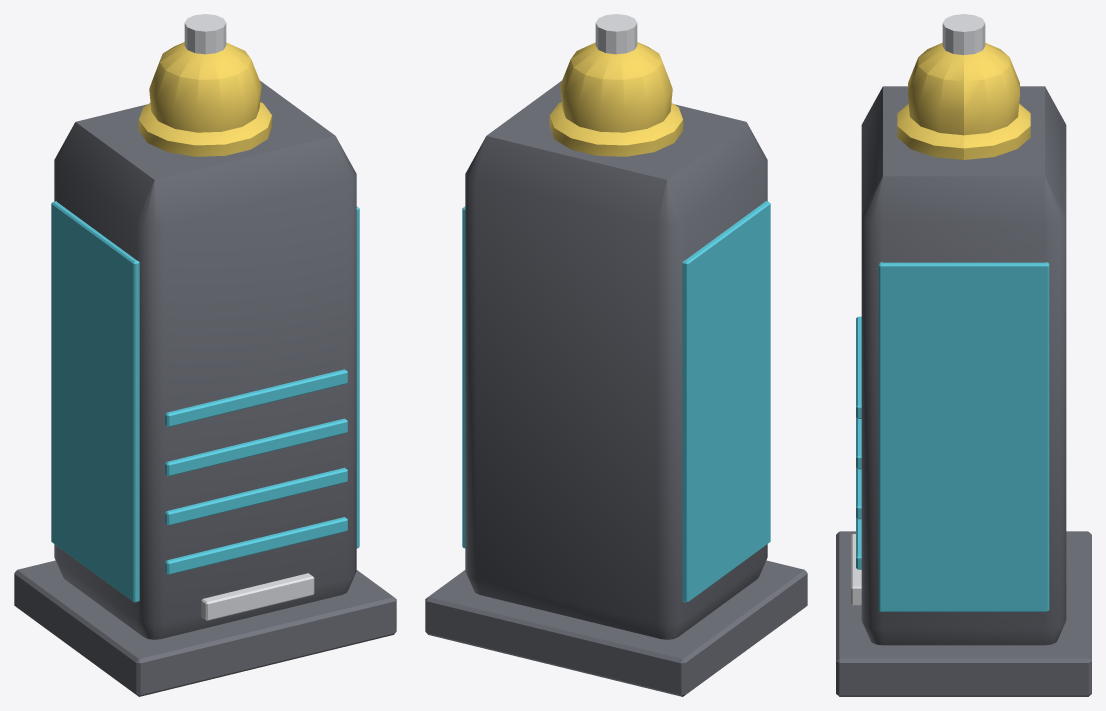
File: laser-tag-arena-and-activity-centre-base-station-2fae829e__34480.glb
3 views of the same model, side by side, from view 1: azimuth 30°, elevation 25°; view 2: azimuth 150°, elevation 25°; view 3: azimuth 270°, elevation 25° (orthographic). The views are drawn at different scales.
Parts seen in each view (by area): view 1: base-station; view 2: base-station; view 3: base-station.
Part boxes in pixels (x1,y1,x2,y2): base-station: (14, 14, 396, 696); base-station: (425, 14, 807, 696); base-station: (836, 14, 1091, 696).
Bounding box in the file's own units: 0.7201 × 1.58 × 0.5999.
